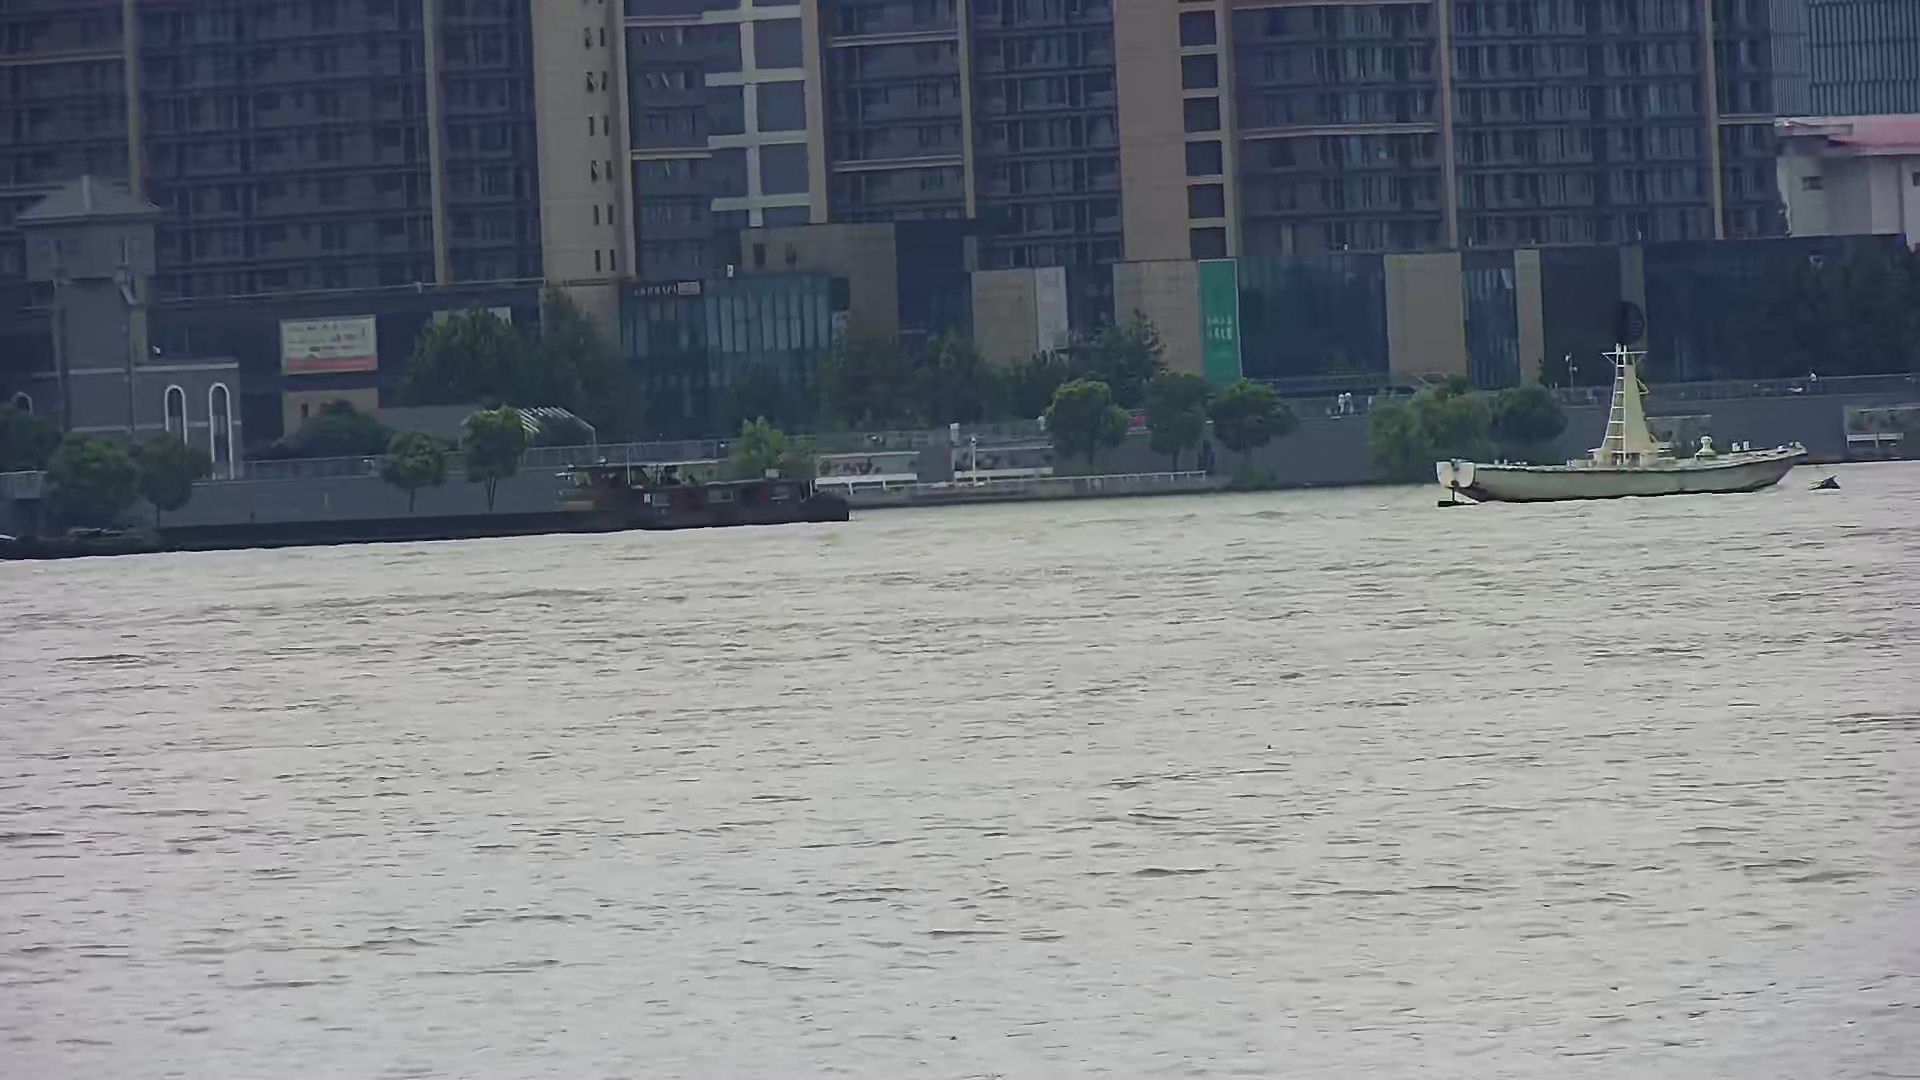boat: (1437, 305, 1811, 498)
ship: (1, 458, 853, 553)
